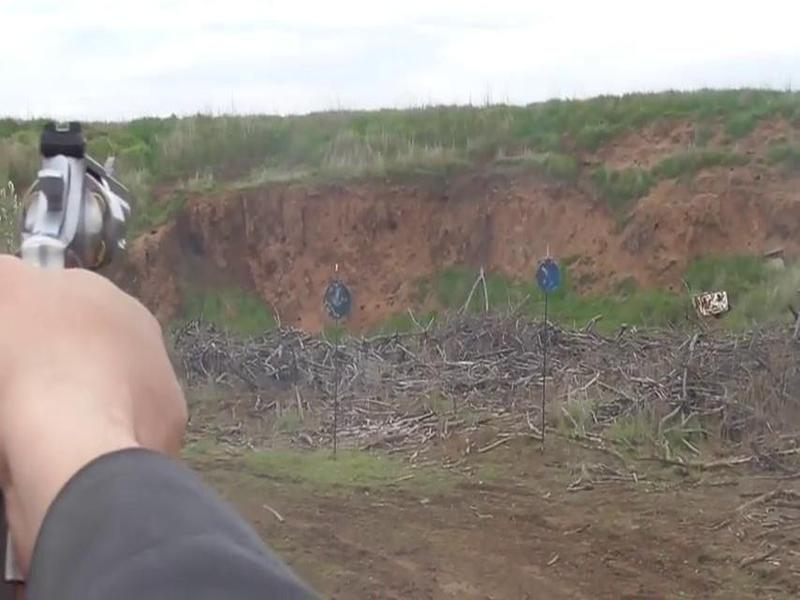Revolver: (14, 109, 147, 294)
